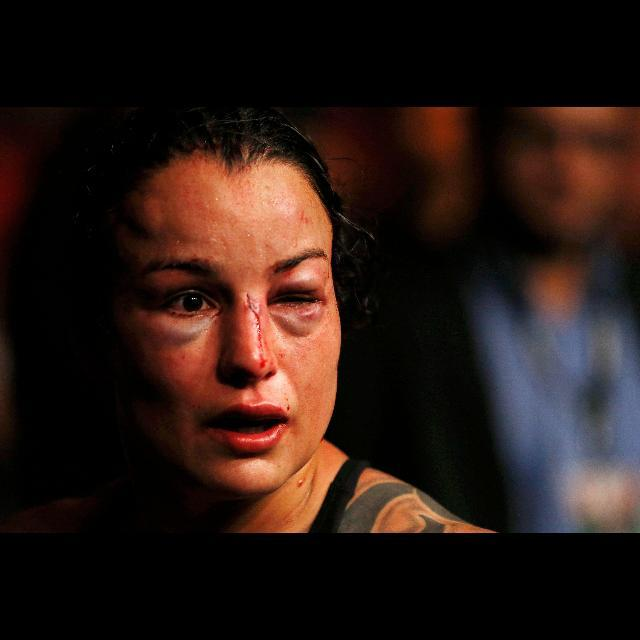blood: (246, 293, 271, 369)
